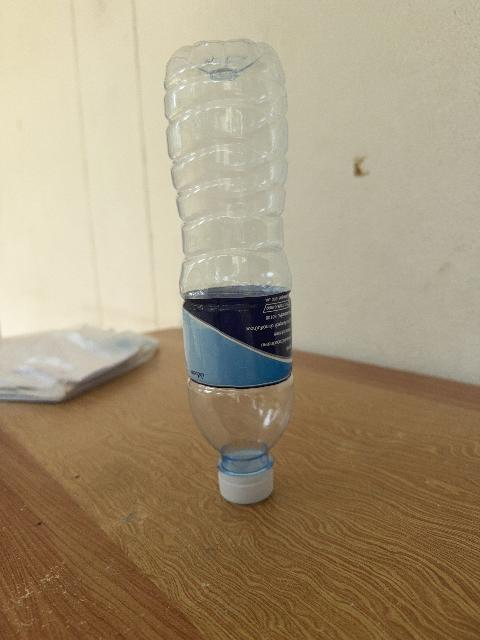bottle: (165, 40, 293, 503)
